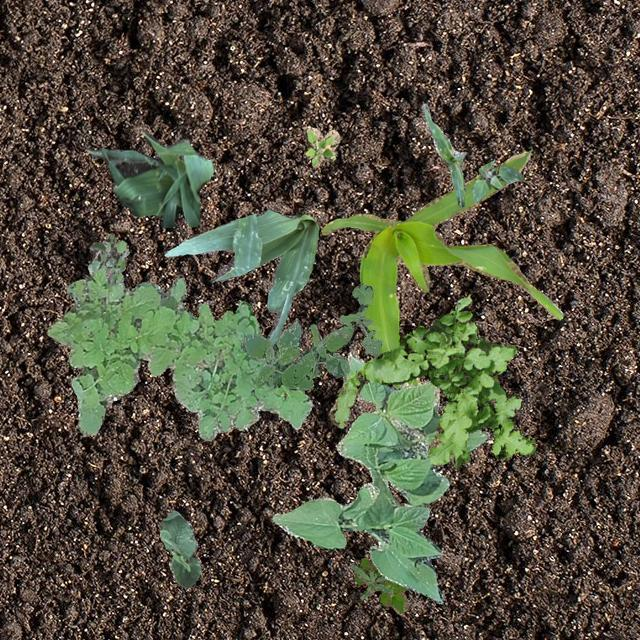crop: (319, 150, 562, 388), (272, 348, 488, 602), (164, 208, 318, 346), (85, 130, 214, 227), (420, 102, 464, 206), (158, 509, 200, 586)
weed: (45, 264, 312, 440), (328, 296, 534, 466), (240, 318, 352, 388), (338, 282, 382, 356), (354, 556, 406, 614), (86, 233, 128, 286), (472, 160, 522, 200), (349, 562, 392, 598), (304, 126, 340, 166)
